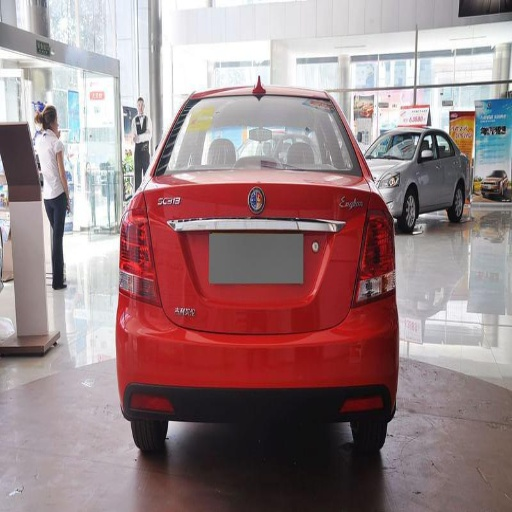back_bumper: (116, 293, 395, 437)
tailgate: (142, 168, 342, 332)
trunk: (185, 172, 371, 319)
